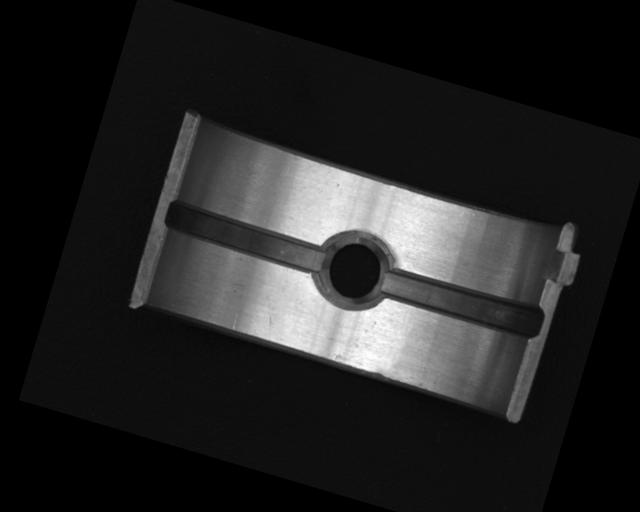gap: (159, 196, 335, 281), (377, 260, 546, 343)
hole: (309, 224, 399, 315)
nick: (229, 310, 241, 331)
